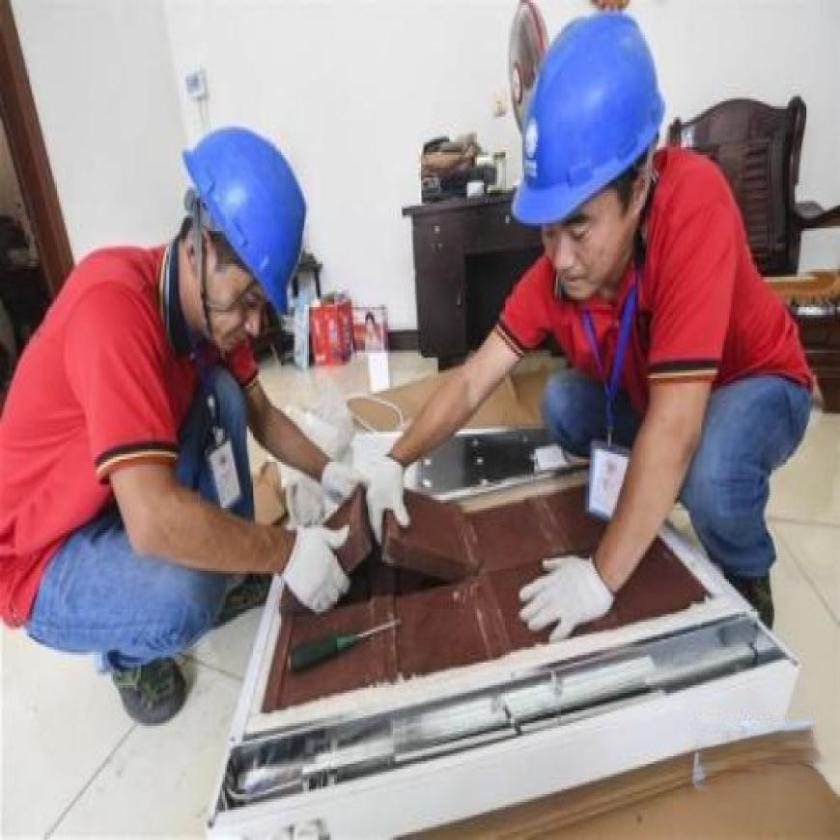Con_casco: (510, 6, 667, 307), (167, 125, 311, 367)
